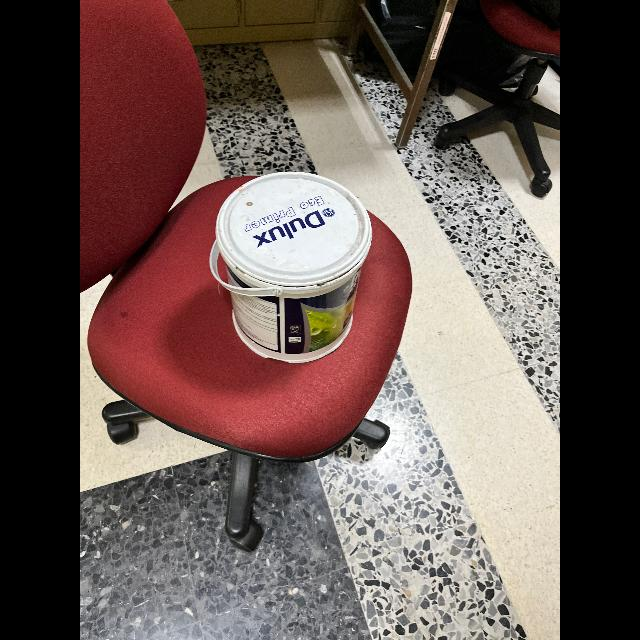paint_bucket: (212, 166, 372, 364)
